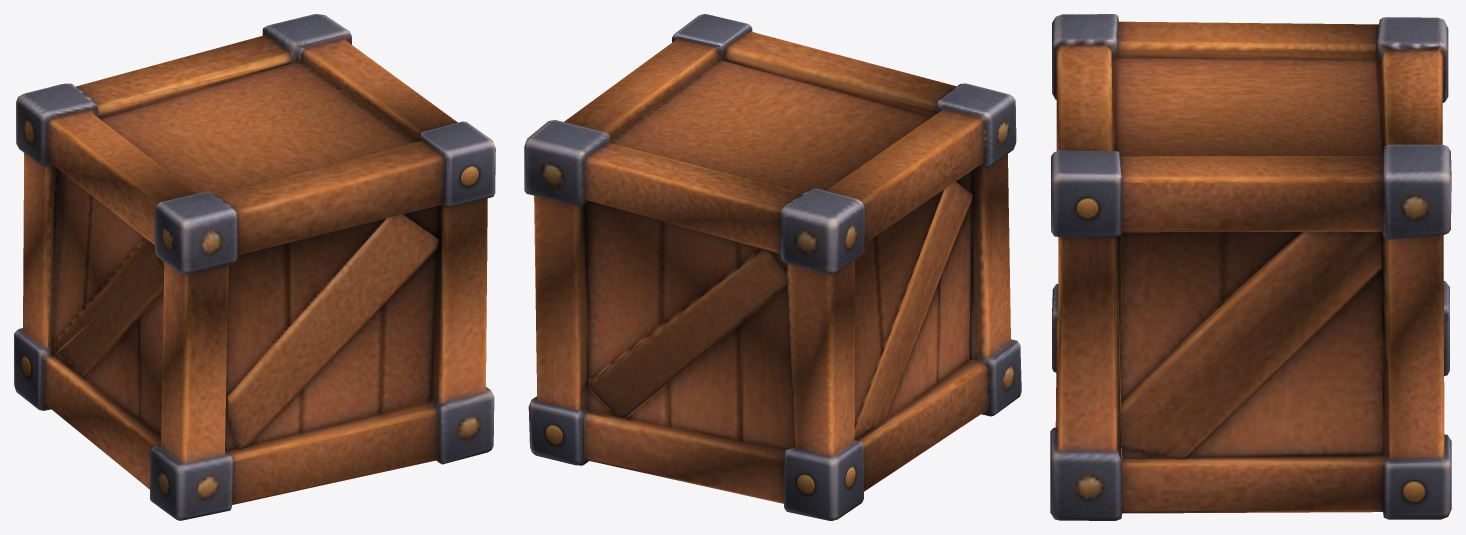
The model's file is wooden-crate-tripo-01.glb.
The picture shows the model from 3 angles, left to right: view 1: azimuth 30°, elevation 25°; view 2: azimuth 150°, elevation 25°; view 3: azimuth 270°, elevation 25°; orthographic projection. The views are drawn at different scales.
Visible parts, largest first — view 1: tripo_node_4a2c5492-e50d-48a0-b181-1680f406b8fd; view 2: tripo_node_4a2c5492-e50d-48a0-b181-1680f406b8fd; view 3: tripo_node_4a2c5492-e50d-48a0-b181-1680f406b8fd.
Boxes of the visible parts, left/top/right/bottom form: tripo_node_4a2c5492-e50d-48a0-b181-1680f406b8fd: left=14, top=14, right=495, bottom=520; tripo_node_4a2c5492-e50d-48a0-b181-1680f406b8fd: left=524, top=14, right=1021, bottom=520; tripo_node_4a2c5492-e50d-48a0-b181-1680f406b8fd: left=1050, top=14, right=1451, bottom=520.
Size of the model in its own units: 0.998 by 0.9238 by 0.959.
1 material, 1 textured.
